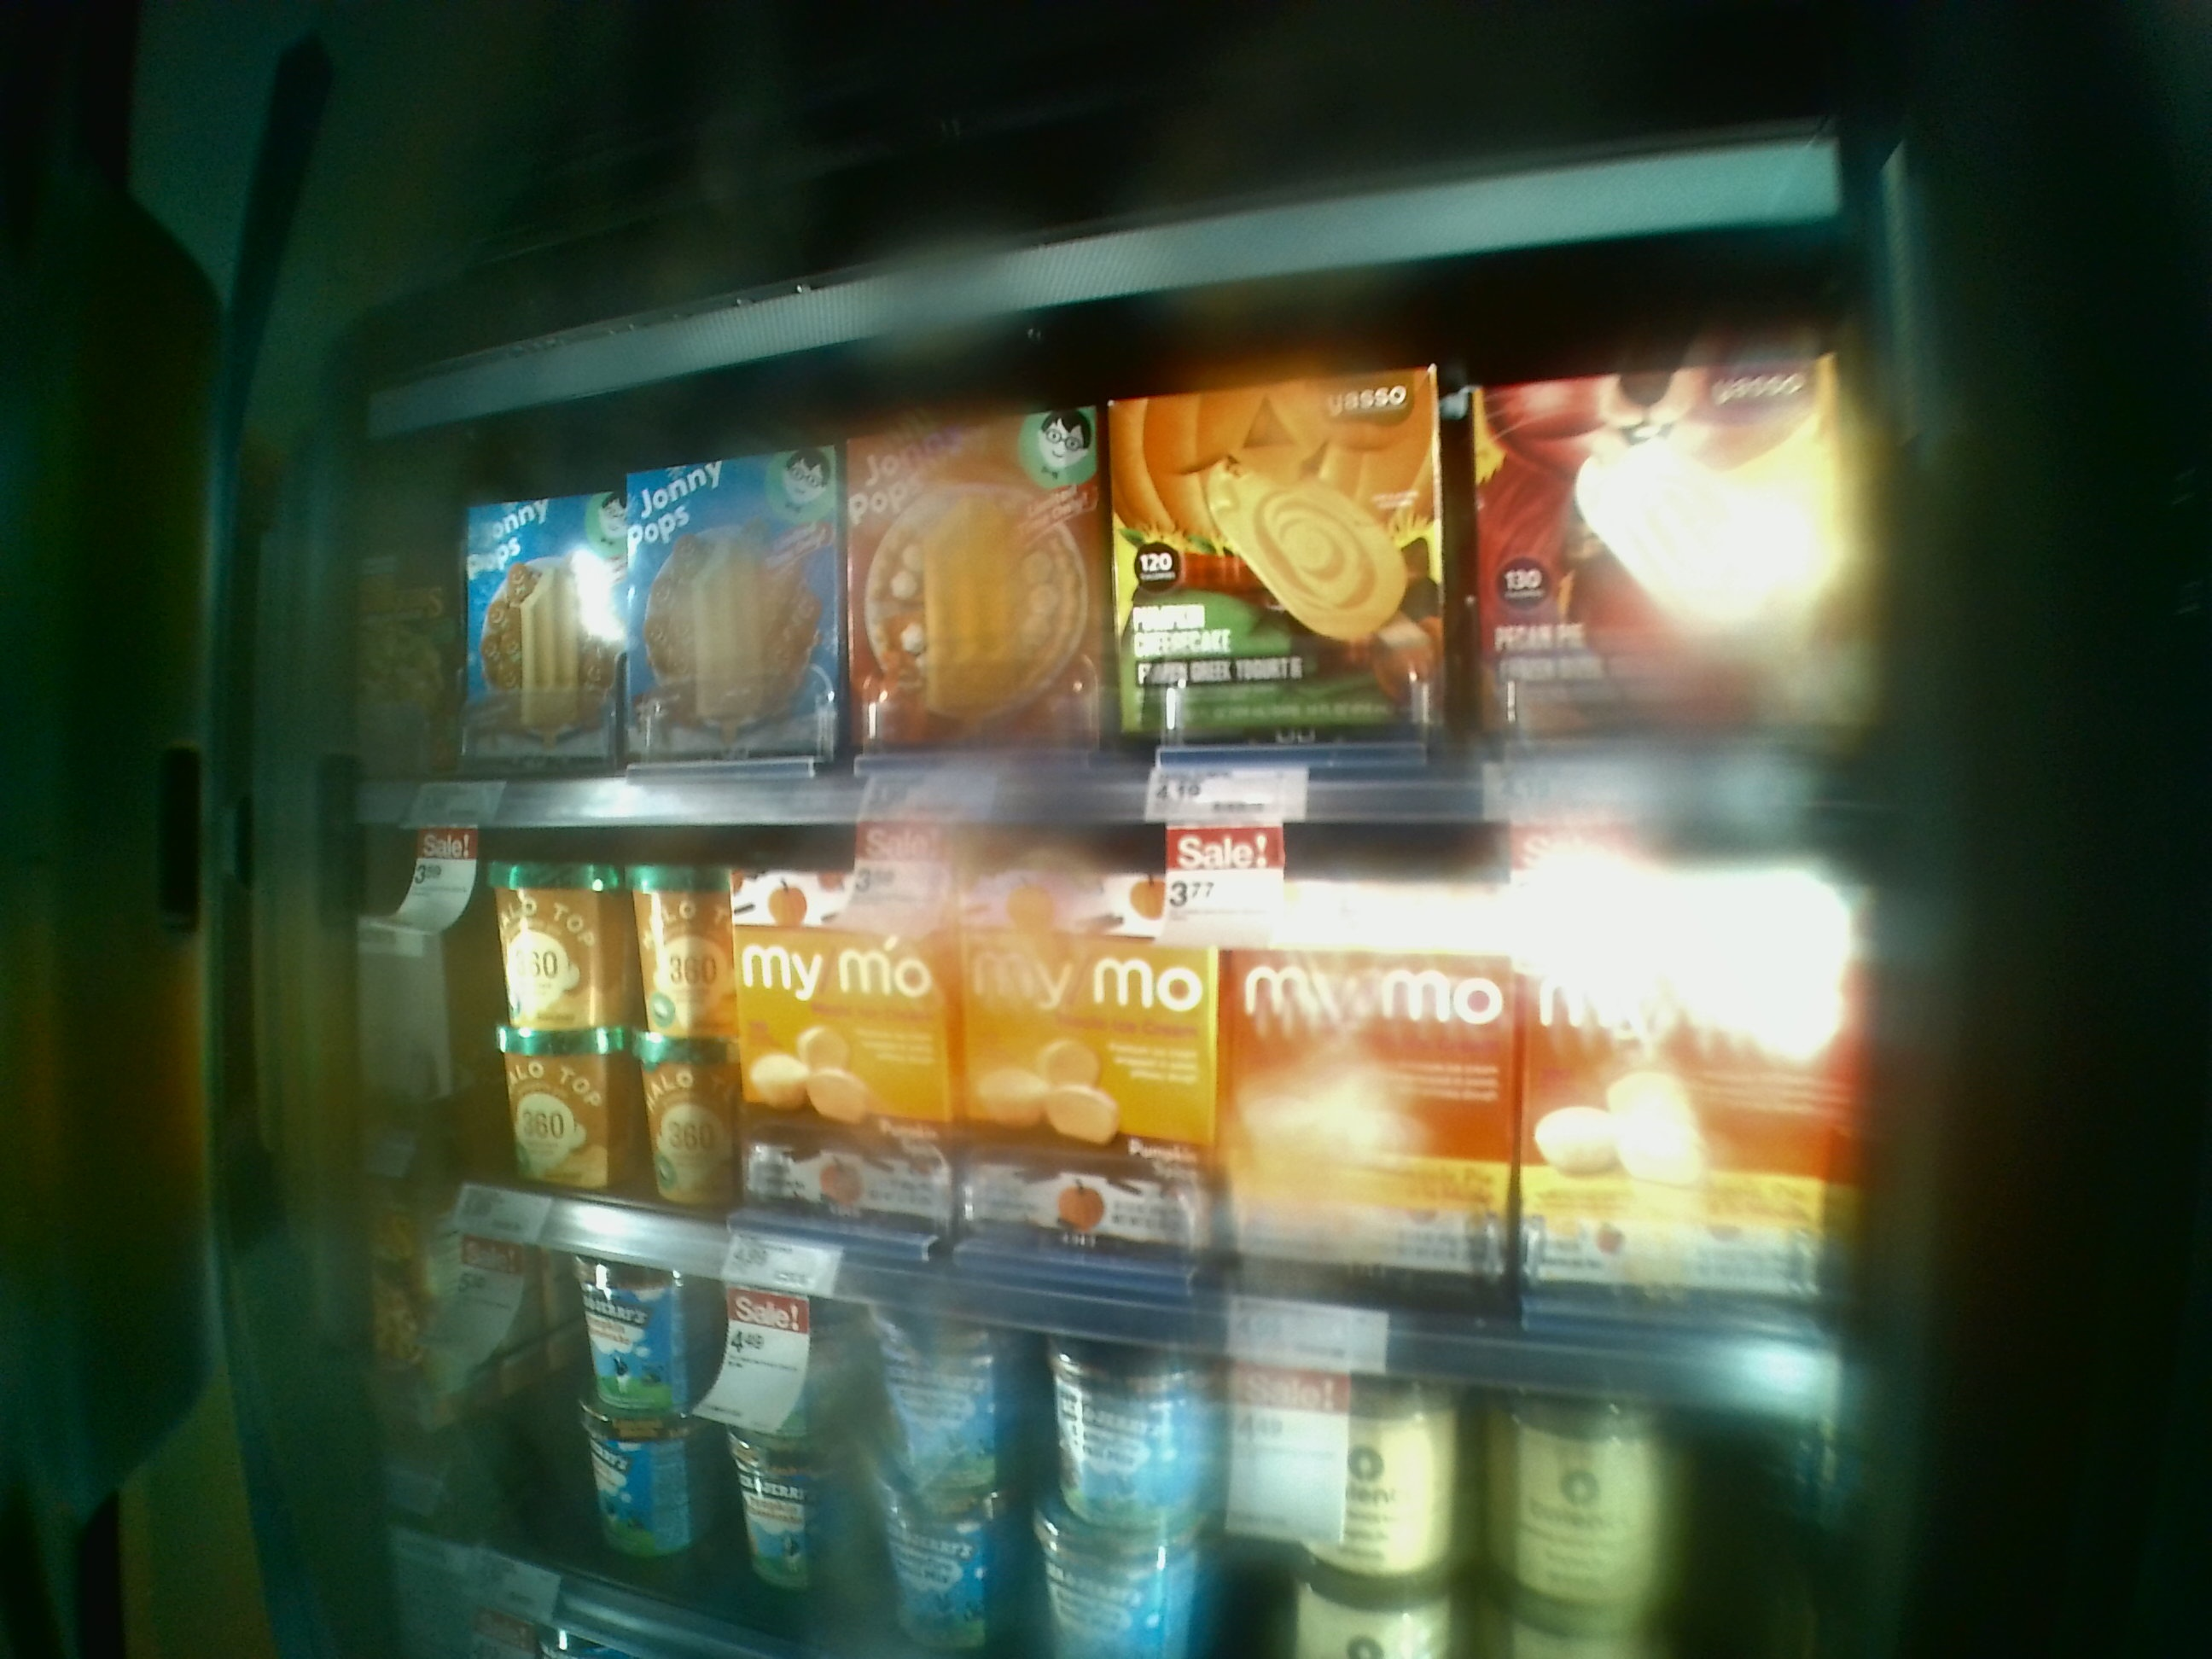shelf: (361, 775, 1864, 1363), (392, 319, 1897, 803)
